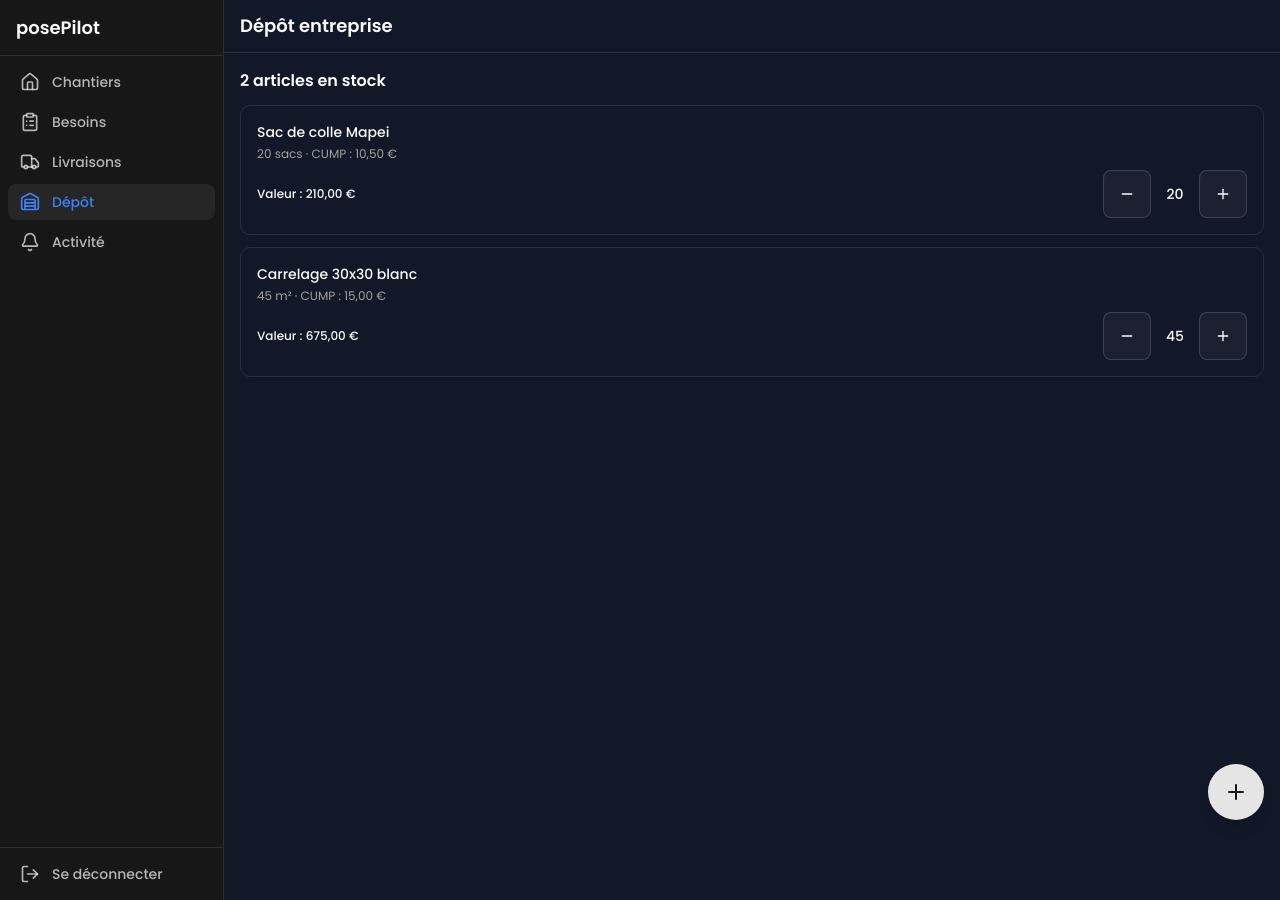
Test case: DepotPage › opens detail sheet on article click with transfer button (AC #1)
Expected: the text "Sac de colle Mapei" is shown, [257, 122, 389, 142]
Click the button with aria-label "Détail Sac de colle Mapei" at coordinates (323, 132), box [240, 105, 1264, 235]
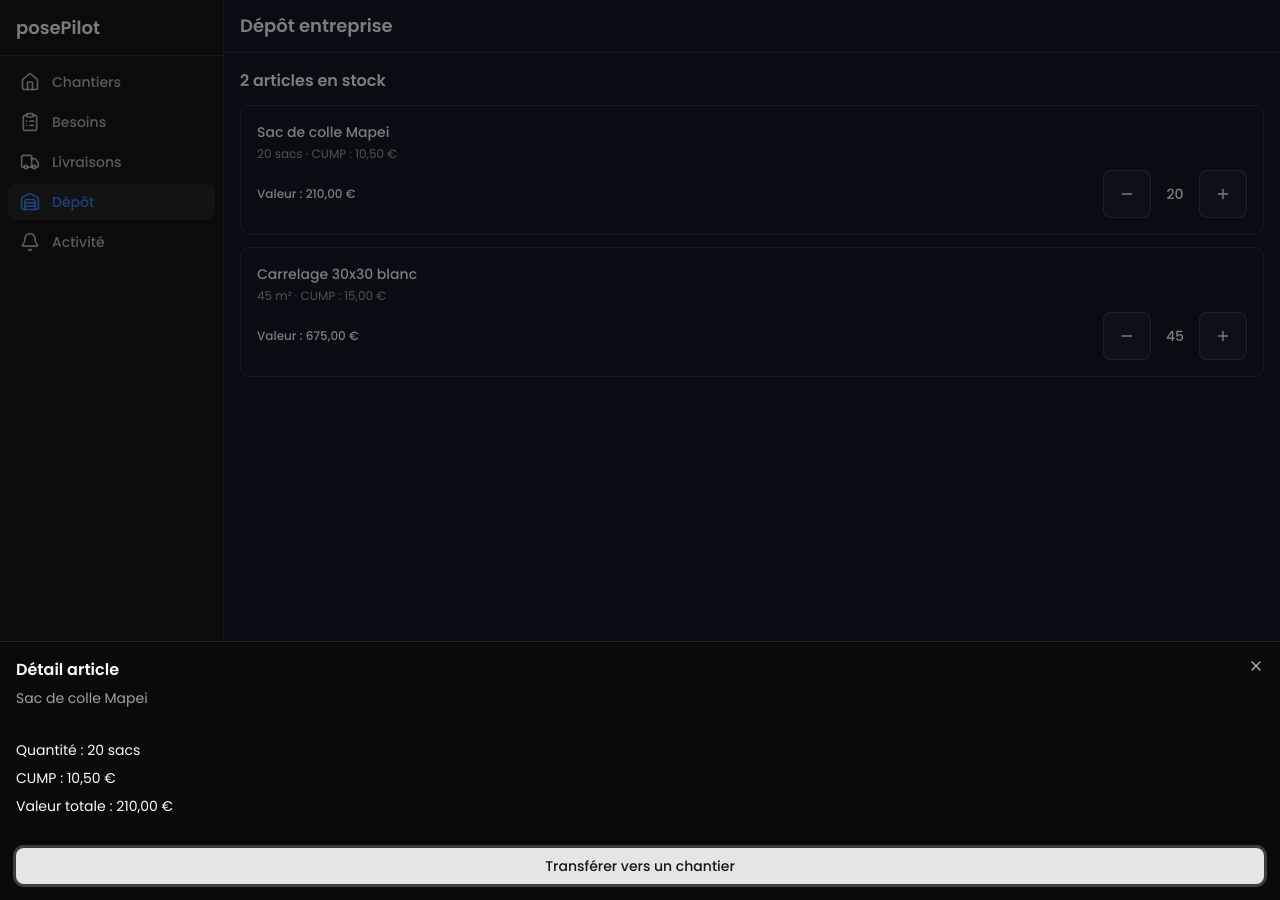
Now the heading "Détail article" is shown, box [16, 658, 119, 681]
Now the text "Quantité : 20 sacs" is shown, box [16, 740, 140, 760]
Now the text "Valeur totale : 210,00 €" is shown, box [16, 796, 173, 816]
